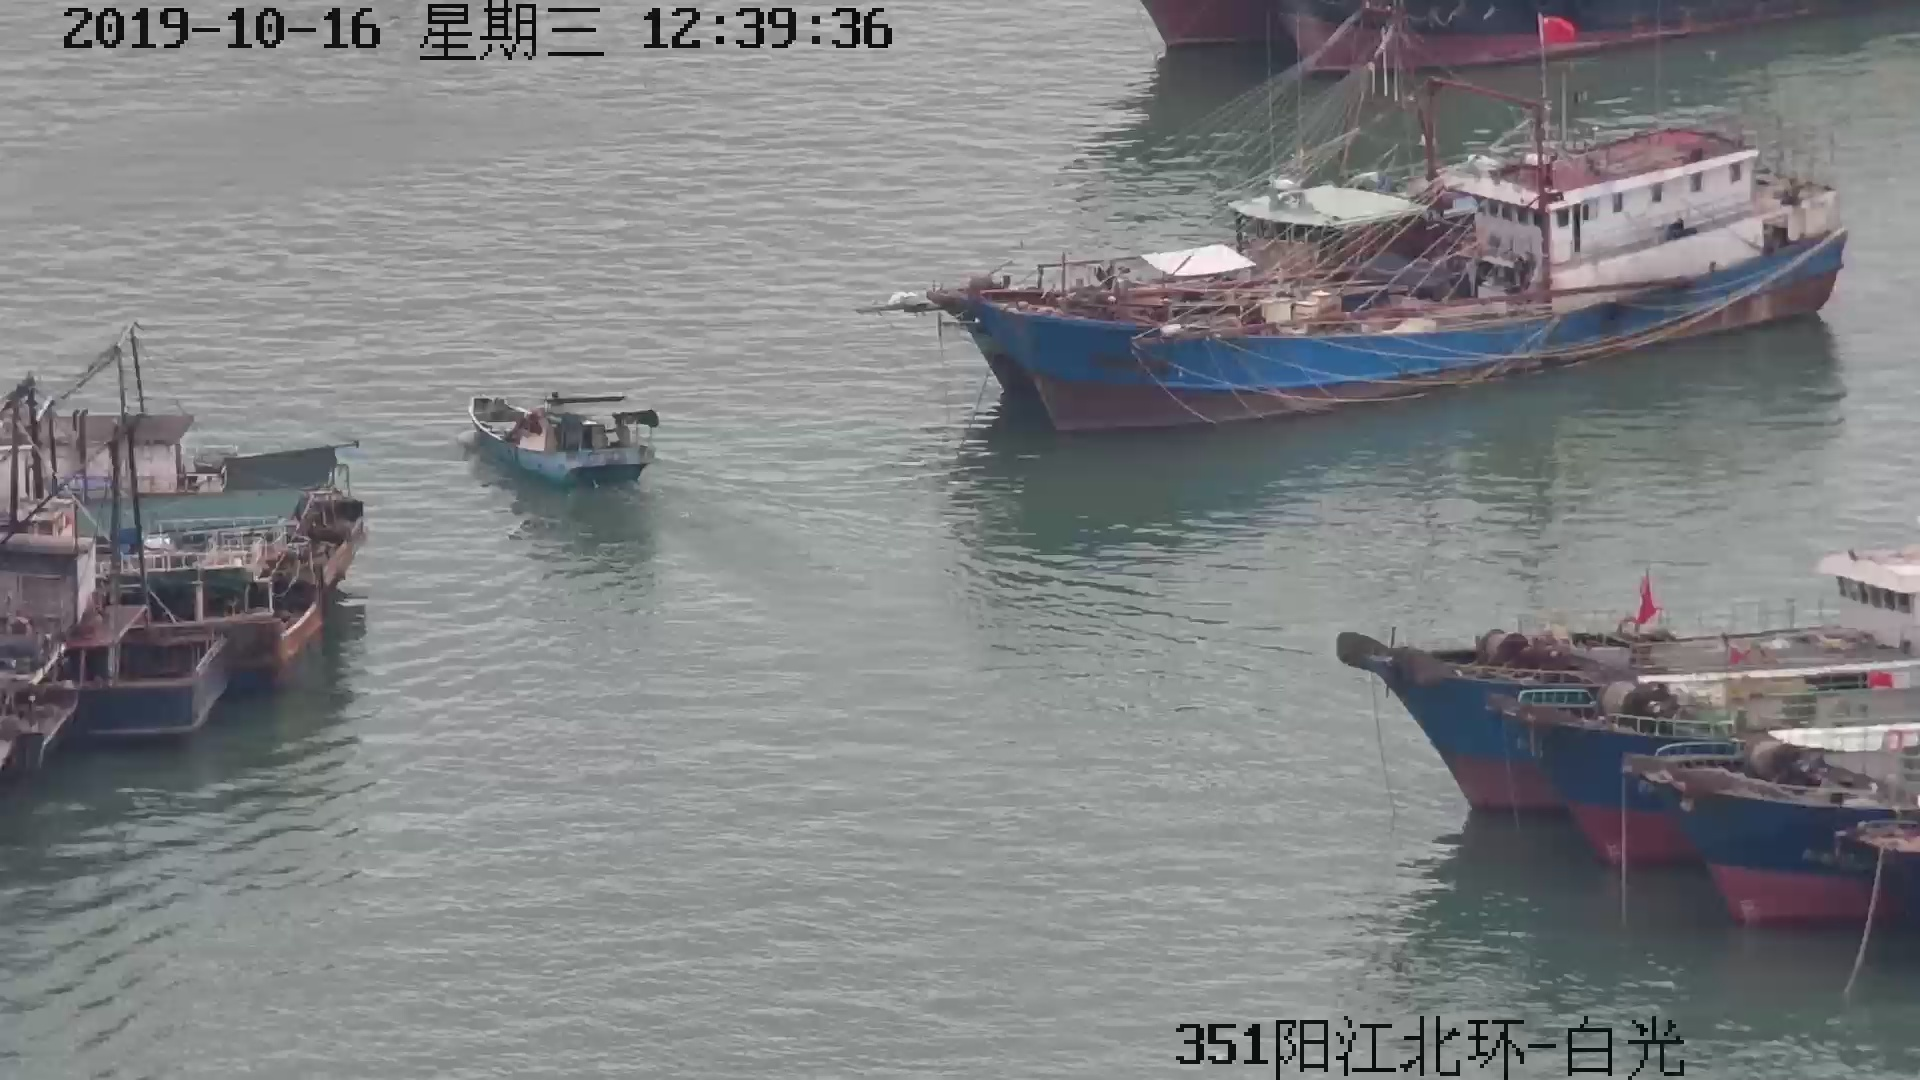ship: (916, 24, 1833, 430), (465, 394, 663, 487)
